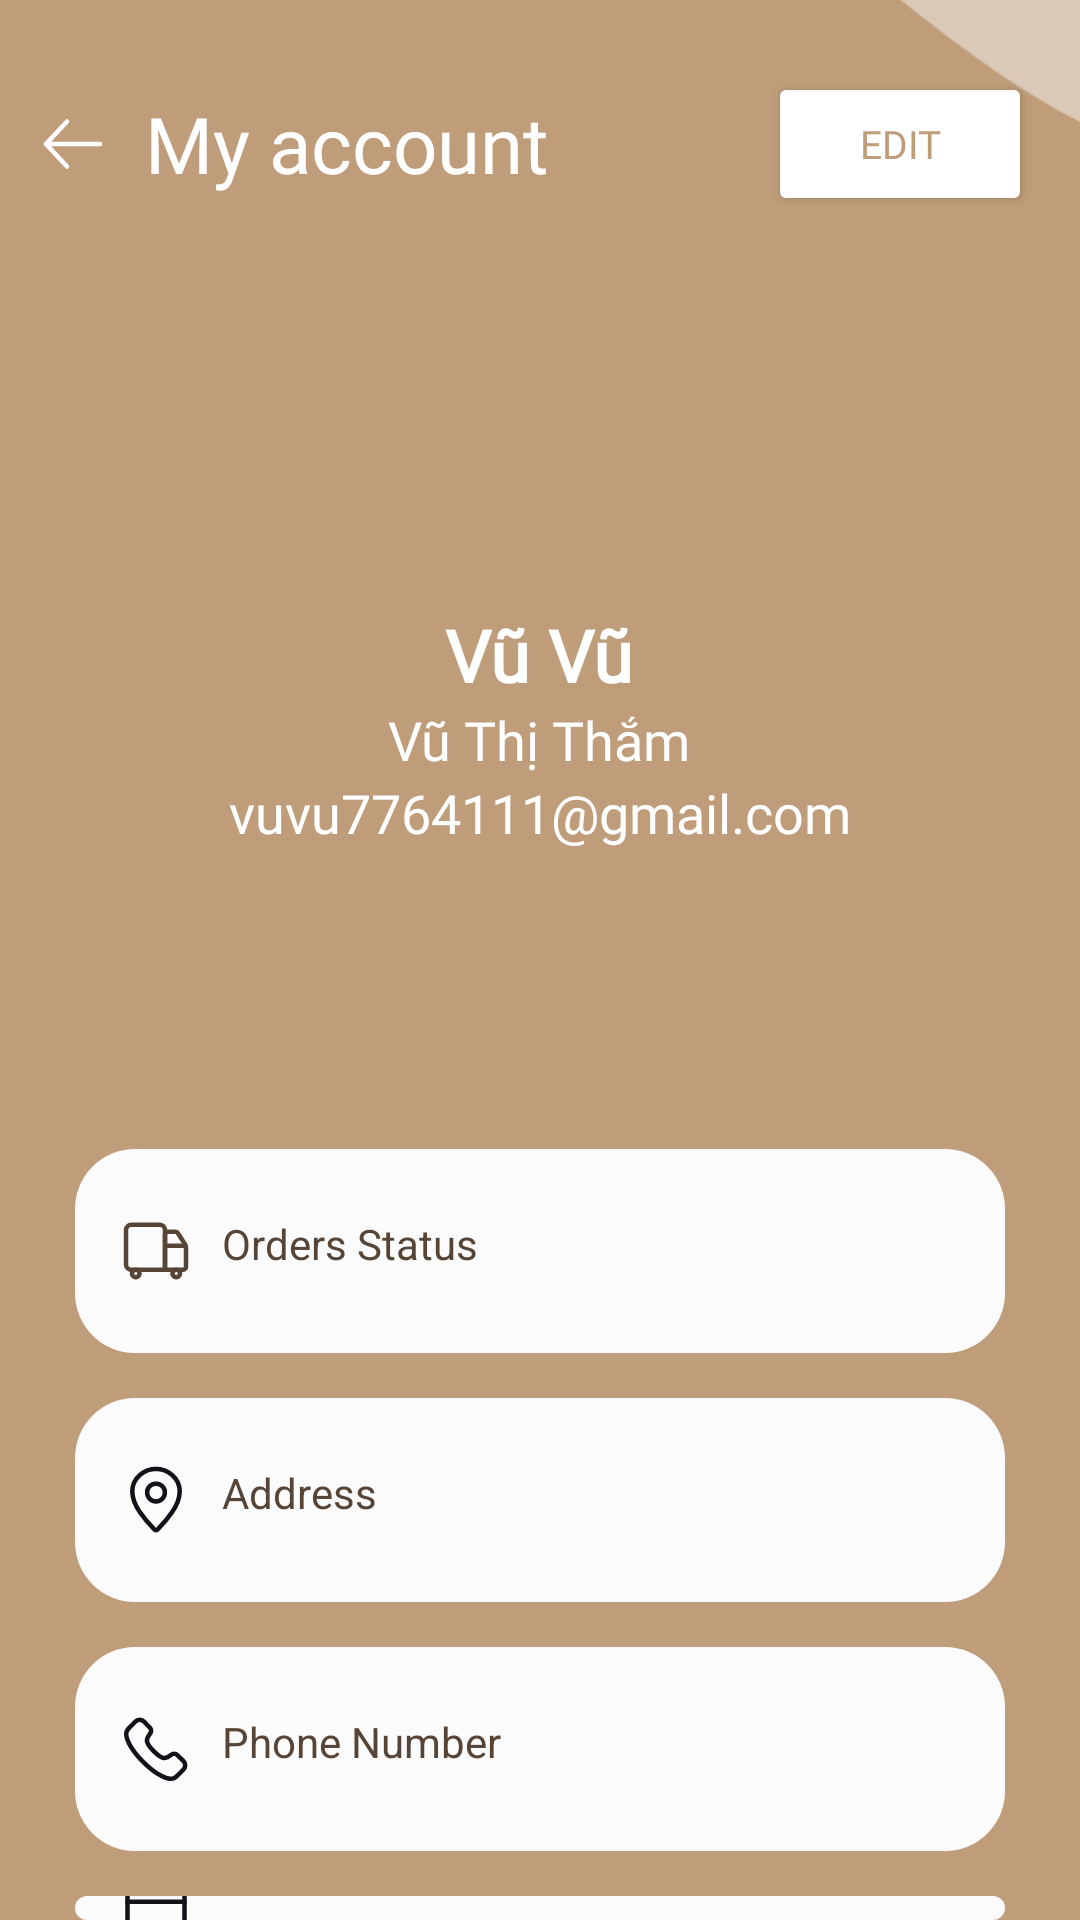

Screen size 1080w x 1920h. Icon name, then its center in pixels as [x,y]:
arrow left: [73,144]
